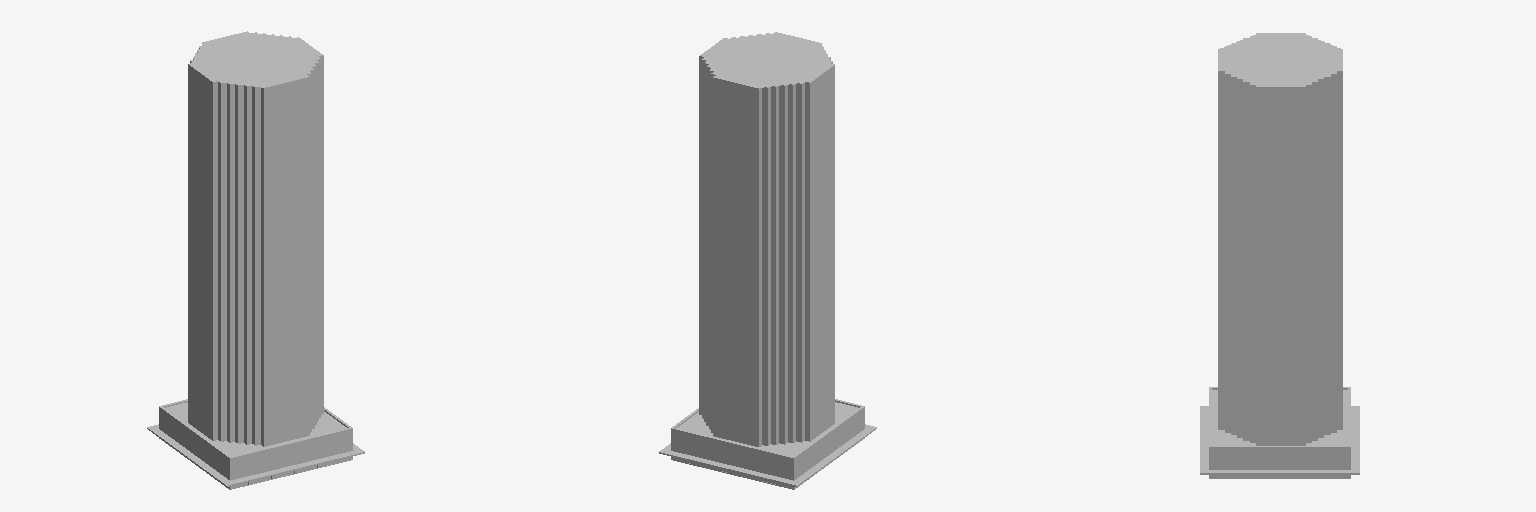
3 renders of one model, left to right at view 1: azimuth 30°, elevation 25°; view 2: azimuth 150°, elevation 25°; view 3: azimuth 270°, elevation 25°, orthographic.
Visible parts, largest first — view 1: HI-RISE.1; view 2: HI-RISE.1; view 3: HI-RISE.1.
Part boxes in pixels (left/top/right/bottom): HI-RISE.1: left=147, top=31, right=364, bottom=489; HI-RISE.1: left=659, top=32, right=876, bottom=489; HI-RISE.1: left=1200, top=33, right=1359, bottom=478.
Size of the model in its own units: 306 by 826 by 306.